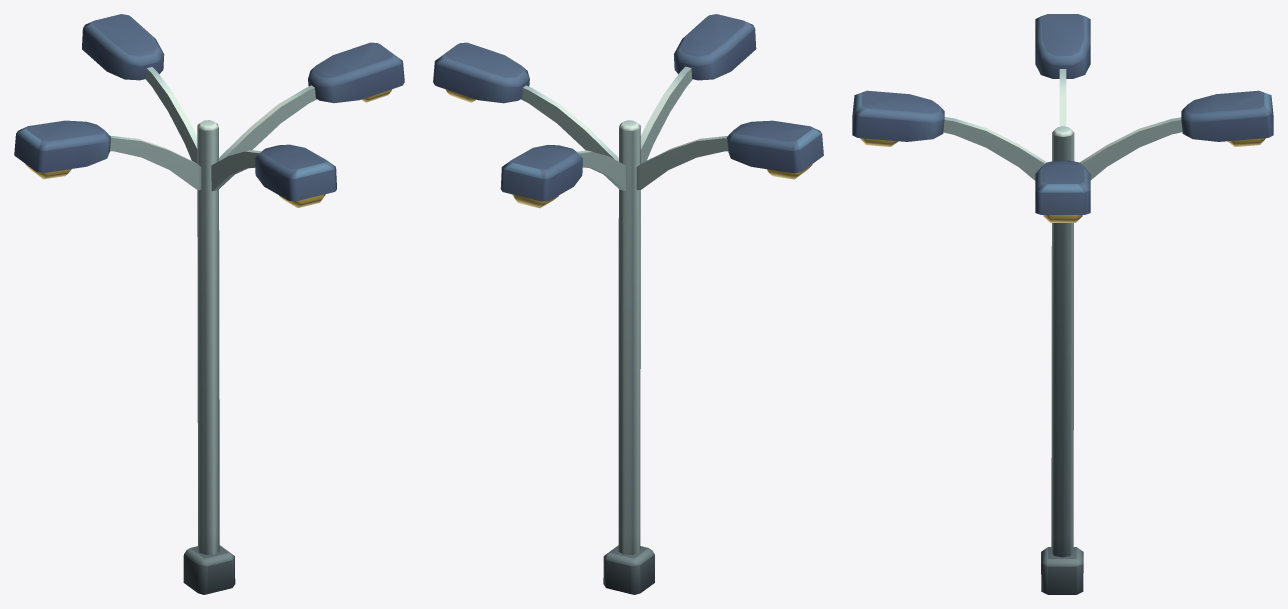
The model's file is lamp_post_modern.fbx.
The picture shows the model from 3 angles, left to right: view 1: azimuth 30°, elevation 25°; view 2: azimuth 150°, elevation 25°; view 3: azimuth 270°, elevation 25°; orthographic projection.
Parts seen in each view (by area): view 1: lamp_post_modern; view 2: lamp_post_modern; view 3: lamp_post_modern.
Part boxes in pixels (<box>): lamp_post_modern: <box>14,14,404,594</box>; lamp_post_modern: <box>433,14,823,594</box>; lamp_post_modern: <box>852,14,1273,594</box>.
Size of the model in its own units: 320 by 411 by 320.
